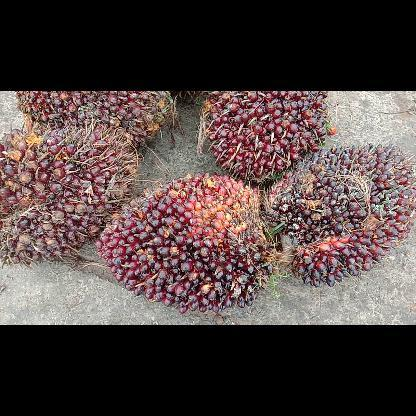Kurang masak: (93, 172, 289, 316), (262, 140, 416, 288), (0, 123, 140, 267), (200, 91, 332, 185), (14, 91, 178, 143)
